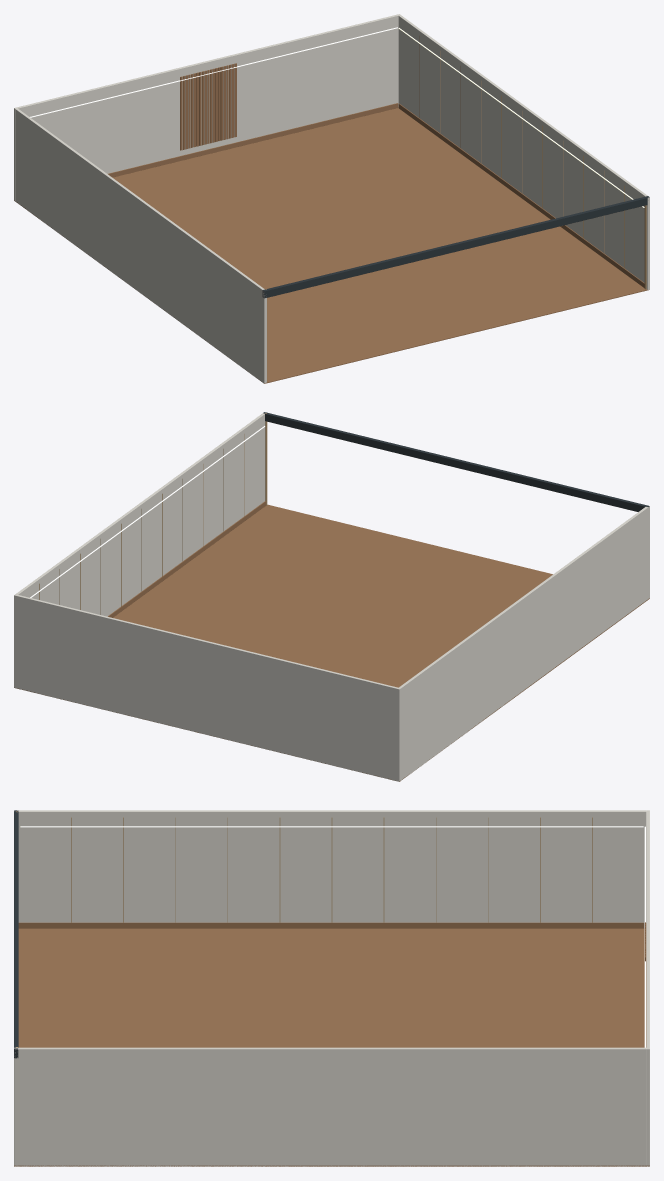
Rendered from booth-40x45.glb.
3 views of the same model, one above another, from view 1: azimuth 30°, elevation 25°; view 2: azimuth 150°, elevation 25°; view 3: azimuth 270°, elevation 25° (orthographic). The views are drawn at different scales.
Visible parts, largest first — view 1: inset_oak_floor, mesh_rear, mesh_side_-1, mesh_side_1, mesh_branding, rear_oak_plinth, oak_side_plinth_1, rear_light_wash; view 2: inset_oak_floor, mesh_rear, mesh_side_-1, mesh_side_1, mesh_branding, oak_side_plinth_1; view 3: inset_oak_floor, mesh_side_1, mesh_side_-1, oak_side_plinth_-1, mesh_rear, warm_side_wash_-1, mesh_branding.
Boxes of the visible parts, bbox=[...] form: inset_oak_floor: bbox=[14, 107, 648, 383]; mesh_rear: bbox=[14, 14, 400, 200]; mesh_side_-1: bbox=[15, 108, 266, 383]; mesh_side_1: bbox=[398, 15, 649, 289]; mesh_branding: bbox=[262, 196, 649, 298]; rear_oak_plinth: bbox=[108, 103, 398, 177]; oak_side_plinth_1: bbox=[398, 103, 644, 287]; rear_light_wash: bbox=[30, 27, 397, 117]; inset_oak_floor: bbox=[14, 504, 649, 781]; mesh_rear: bbox=[14, 594, 400, 781]; mesh_side_-1: bbox=[399, 506, 649, 780]; mesh_side_1: bbox=[16, 413, 265, 616]; mesh_branding: bbox=[263, 412, 649, 511]; oak_side_plinth_1: bbox=[108, 501, 265, 617]; inset_oak_floor: bbox=[14, 928, 649, 1166]; mesh_side_1: bbox=[14, 1047, 646, 1166]; mesh_side_-1: bbox=[14, 810, 646, 927]; oak_side_plinth_-1: bbox=[18, 922, 644, 928]; mesh_rear: bbox=[646, 810, 649, 1166]; warm_side_wash_-1: bbox=[20, 826, 643, 827]; mesh_branding: bbox=[14, 810, 18, 1058].
Size of the model in its own units: 12.19 by 2.8 by 13.72.
